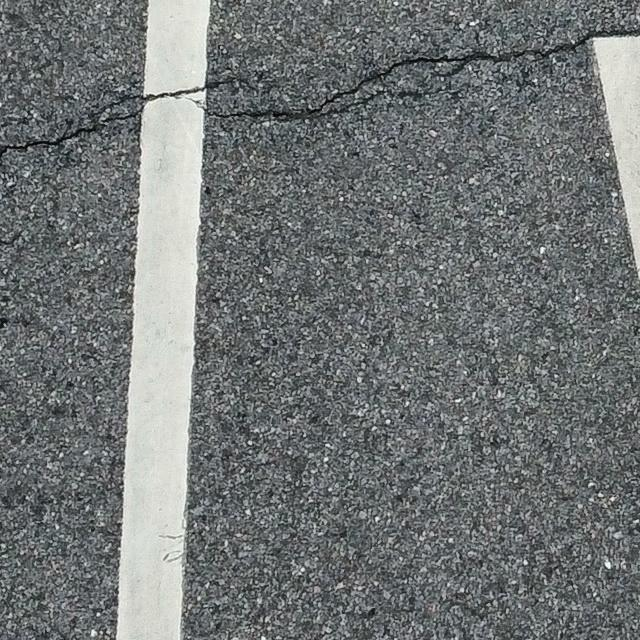TransverseCrack: (1, 27, 640, 154)
